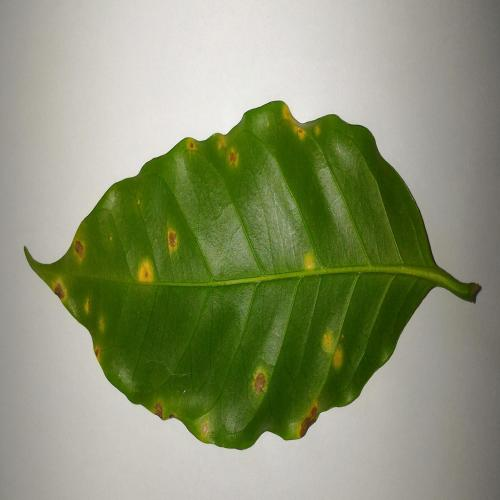phoma: (282, 103, 306, 139)
